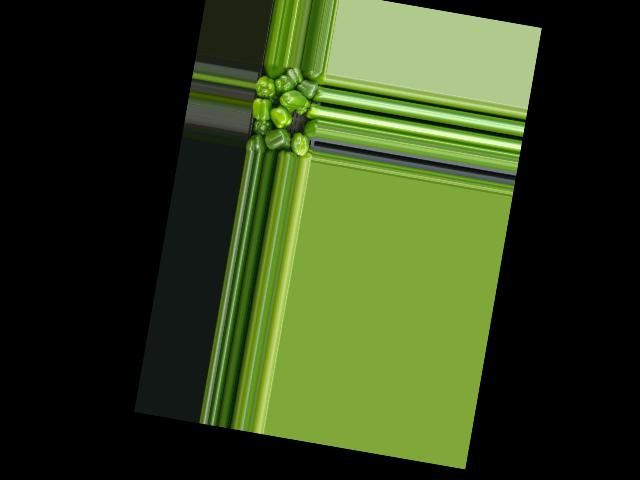bell_pepper: (267, 62, 288, 80)
